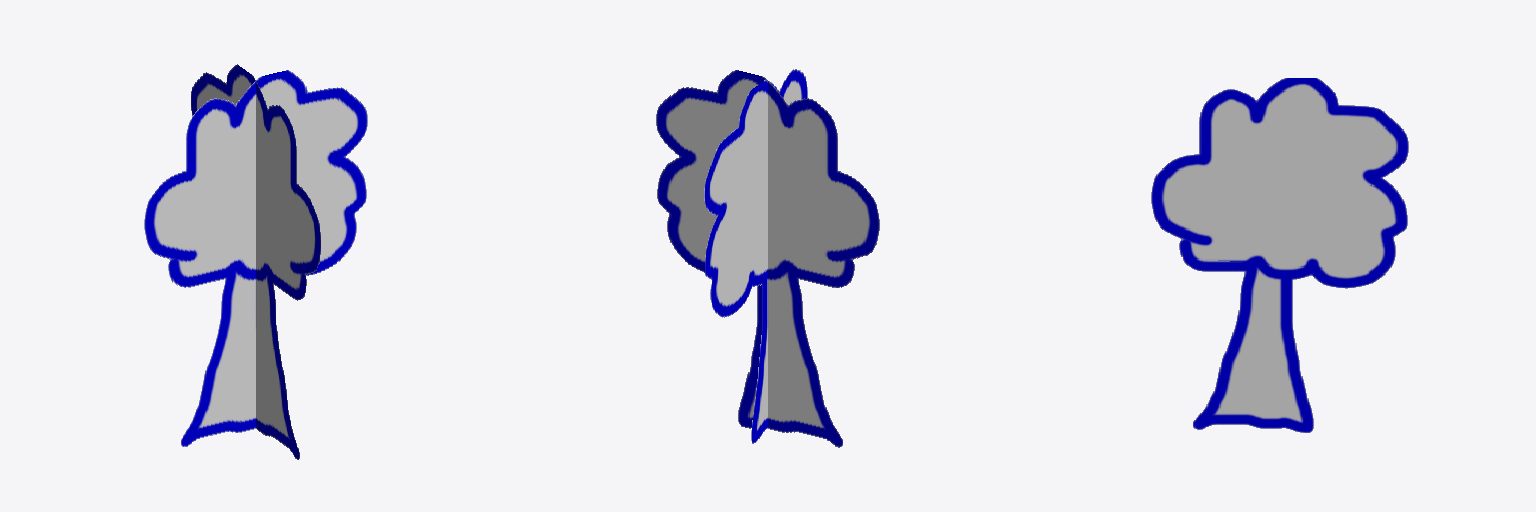
3 views of the same model, side by side, from view 1: azimuth 30°, elevation 25°; view 2: azimuth 150°, elevation 25°; view 3: azimuth 270°, elevation 25° (orthographic).
Parts seen in each view (by area): view 1: pasted__pasted__pPlane1 pasted__group group2, pasted__pPlane1 group; view 2: pasted__pasted__pPlane1 pasted__group group2, pasted__pPlane1 group; view 3: pasted__pPlane1 group.
Part boxes in pixels (x1,y1,x2,y2): pasted__pasted__pPlane1 pasted__group group2: (144, 70, 367, 446); pasted__pPlane1 group: (191, 64, 320, 459); pasted__pasted__pPlane1 pasted__group group2: (656, 70, 879, 447); pasted__pPlane1 group: (704, 69, 807, 443); pasted__pPlane1 group: (1151, 78, 1408, 432).
Size of the model in its own units: 1.6 by 2.43 by 1.6.
Materials: 1 (1 with a texture image).